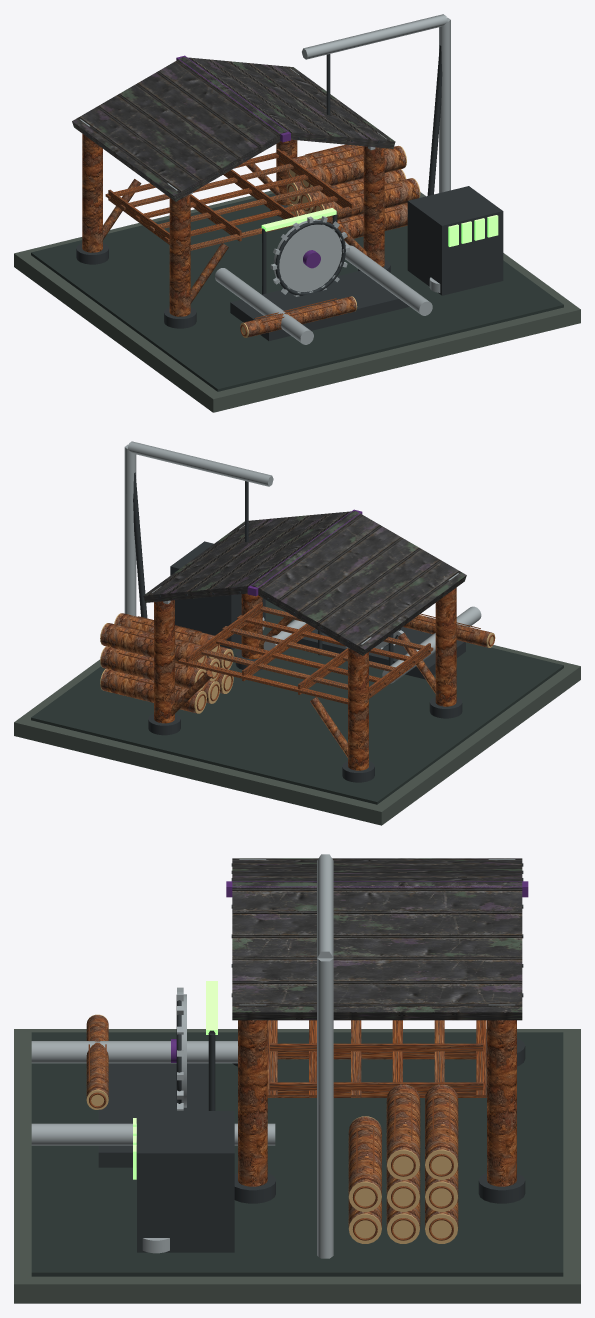
The model's file is timberline_l03-2.glb.
The picture shows the model from 3 angles, top to bottom: view 1: azimuth 30°, elevation 25°; view 2: azimuth 150°, elevation 25°; view 3: azimuth 270°, elevation 25°; orthographic projection. The views are drawn at different scales.
Visible parts, largest first — view 1: timberline_l03, stone_yard_base, hydraulic_sorter, saw_carriage, circular_saw_blade, saw_safety_light; view 2: timberline_l03, stone_yard_base, hydraulic_sorter, saw_carriage; view 3: timberline_l03, stone_yard_base, hydraulic_sorter, saw_carriage, roof_spine, saw_safety_light, circular_saw_blade.
Part boxes in pixels (x1,y1,x2,y2): timberline_l03: (31,14,563,391); stone_yard_base: (14,190,580,412); hydraulic_sorter: (407,186,503,295); saw_carriage: (230,270,409,340); circular_saw_blade: (273,219,341,291); saw_safety_light: (261,208,336,231); timberline_l03: (31,441,563,804); stone_yard_base: (14,645,580,825); hydraulic_sorter: (170,541,265,649); saw_carriage: (296,627,465,679); timberline_l03: (31,854,563,1276); stone_yard_base: (14,1029,580,1303); hydraulic_sorter: (137,1111,234,1252); saw_carriage: (98,1063,208,1167); roof_spine: (226,881,528,897); saw_safety_light: (206,981,217,1034); circular_saw_blade: (181,994,186,1107).
Bounding box in the file's own units: 6.5 × 3.96 × 6.1.
11 materials, 3 textured.
